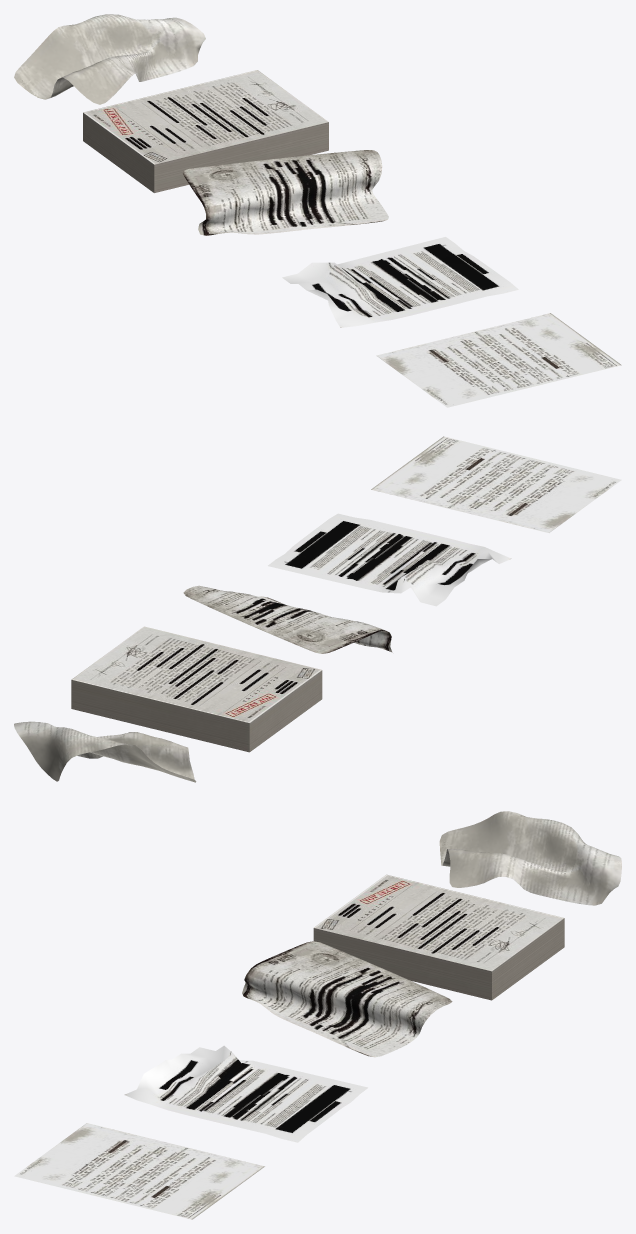
The model's file is paper-clutter.glb.
3 renders of one model, top to bottom at view 1: azimuth 30°, elevation 25°; view 2: azimuth 150°, elevation 25°; view 3: azimuth 330°, elevation 25°, orthographic. The views are drawn at different scales.
Visible parts, largest first — view 1: SM_A4_paper_pile, SM_A4_paper_fold_1, SM_A4_paper, SM_A4_paper_fold_2, SM_A4_paper_crumbled; view 2: SM_A4_paper_pile, SM_A4_paper, SM_A4_paper_fold_2, SM_A4_paper_fold_1, SM_A4_paper_crumbled; view 3: SM_A4_paper_pile, SM_A4_paper_fold_1, SM_A4_paper, SM_A4_paper_fold_2, SM_A4_paper_crumbled.
Part boxes in pixels (box(x1,y1,x2,y2)): SM_A4_paper_pile: box(83, 70, 328, 192); SM_A4_paper_fold_1: box(182, 150, 388, 235); SM_A4_paper: box(376, 313, 621, 407); SM_A4_paper_fold_2: box(282, 237, 518, 327); SM_A4_paper_crumbled: box(14, 14, 205, 104); SM_A4_paper_pile: box(71, 626, 322, 752); SM_A4_paper: box(371, 436, 621, 532); SM_A4_paper_fold_2: box(268, 513, 511, 606); SM_A4_paper_fold_1: box(183, 585, 392, 653); SM_A4_paper_crumbled: box(14, 721, 196, 782); SM_A4_paper_pile: box(313, 874, 564, 1000); SM_A4_paper_fold_1: box(242, 941, 452, 1057); SM_A4_paper: box(14, 1123, 264, 1219); SM_A4_paper_fold_2: box(124, 1045, 367, 1142); SM_A4_paper_crumbled: box(439, 811, 621, 905).
Bounding box in the file's own units: 32.41 × 8.04 × 132.
Materials: 1 (1 with a texture image).
